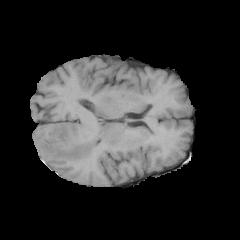glioma: (51, 125, 97, 163)
